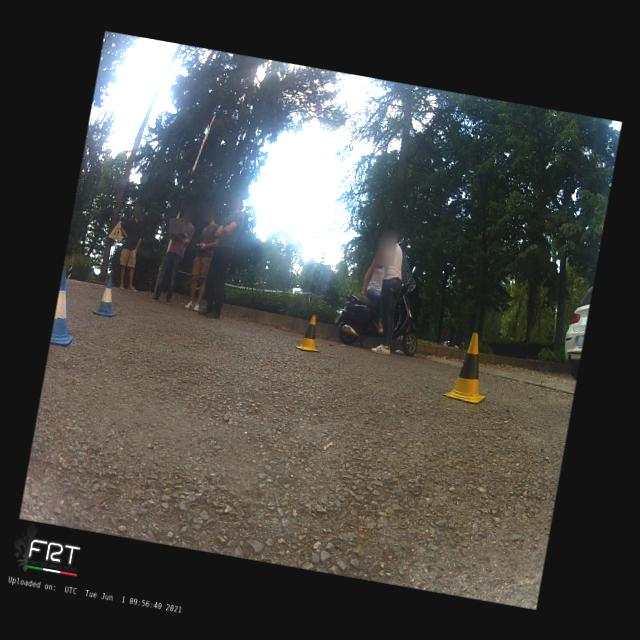blue_cone: (49, 266, 84, 347), (92, 274, 122, 317)
yellow_cone: (442, 328, 496, 405), (295, 312, 326, 352)
